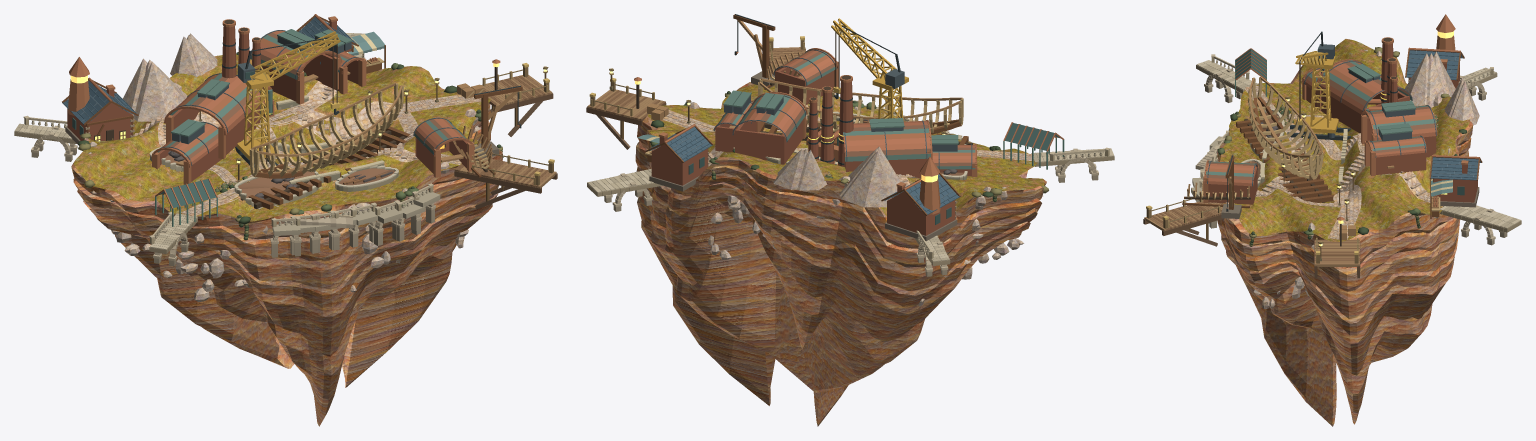
Rendered from flight-town-copperfall.glb.
The picture shows the model from 3 angles, left to right: view 1: azimuth 30°, elevation 25°; view 2: azimuth 150°, elevation 25°; view 3: azimuth 270°, elevation 25°; orthographic projection. The views are drawn at different scales.
Parts seen in each view (by area): view 1: Layered cliff and undermined strata, Continuous hillside terraces, Quays and working piers, Copperfall | Sovereign hull growing on the ways, Outcrop spurs and stratified talus, Stepped lanes and inlaid courts, Stonework, arcade and retaining walls, Copperfall • ship hall, Copperfall | riveters’ travelling lattice crane, Riveting hall, Plate bending hall, Yardmaster’s office (+9 smaller); view 2: Layered cliff and undermined strata, Quays and working piers, Outcrop spurs and stratified talus, Continuous hillside terraces, Riveting hall, Plate bending hall, Copperfall • ship hall, Yardmaster’s office, Exchange and stores, Copperfall | Sovereign hull growing on the ways, Copperfall | riveters’ travelling lattice crane, Copperfall | furnace court and blast mains (+7 smaller); view 3: Layered cliff and undermined strata, Continuous hillside terraces, Quays and working piers, Copperfall | Sovereign hull growing on the ways, Stepped lanes and inlaid courts, Riveting hall, Outcrop spurs and stratified talus, Copperfall • ship hall, Casting shop, Copperfall | riveters’ travelling lattice crane, Plate bending hall, Exchange and stores (+10 smaller).
Part boxes in pixels (x1,y1,x2,y2): Layered cliff and undermined strata: [71, 68, 502, 426]; Continuous hillside terraces: [73, 54, 490, 221]; Quays and working piers: [14, 32, 557, 266]; Copperfall | Sovereign hull growing on the ways: [240, 82, 410, 209]; Outcrop spurs and stratified talus: [88, 33, 481, 302]; Stepped lanes and inlaid courts: [134, 81, 481, 216]; Stonework, arcade and retaining walls: [149, 95, 398, 228]; Copperfall • ship hall: [413, 85, 522, 177]; Copperfall | riveters’ travelling lattice crane: [235, 31, 340, 167]; Riveting hall: [164, 73, 260, 159]; Plate bending hall: [250, 29, 342, 104]; Yardmaster’s office: [62, 77, 138, 145]; Layered cliff and undermined strata: [635, 82, 1046, 426]; Quays and working piers: [586, 42, 1114, 276]; Outcrop spurs and stratified talus: [687, 102, 1043, 306]; Continuous hillside terraces: [647, 84, 1044, 216]; Riveting hall: [843, 118, 932, 178]; Plate bending hall: [732, 91, 807, 164]; Copperfall • ship hall: [733, 14, 838, 104]; Yardmaster’s office: [881, 172, 960, 241]; Exchange and stores: [646, 124, 713, 191]; Copperfall | Sovereign hull growing on the ways: [758, 78, 972, 145]; Copperfall | riveters’ travelling lattice crane: [831, 18, 908, 119]; Copperfall | furnace court and blast mains: [808, 75, 853, 166]; Layered cliff and undermined strata: [1217, 39, 1473, 426]; Continuous hillside terraces: [1220, 39, 1469, 241]; Quays and working piers: [1143, 54, 1521, 278]; Copperfall | Sovereign hull growing on the ways: [1236, 76, 1334, 202]; Stepped lanes and inlaid courts: [1225, 85, 1443, 239]; Riveting hall: [1316, 59, 1412, 133]; Outcrop spurs and stratified talus: [1253, 49, 1479, 308]; Copperfall • ship hall: [1182, 155, 1257, 218]; Casting shop: [1364, 123, 1426, 176]; Copperfall | riveters’ travelling lattice crane: [1287, 31, 1350, 140]; Plate bending hall: [1361, 100, 1437, 157]; Exchange and stores: [1429, 155, 1482, 207].
Bounding box in the file's own units: 44.25 × 37.23 × 34.5.
33 materials, 4 textured.
